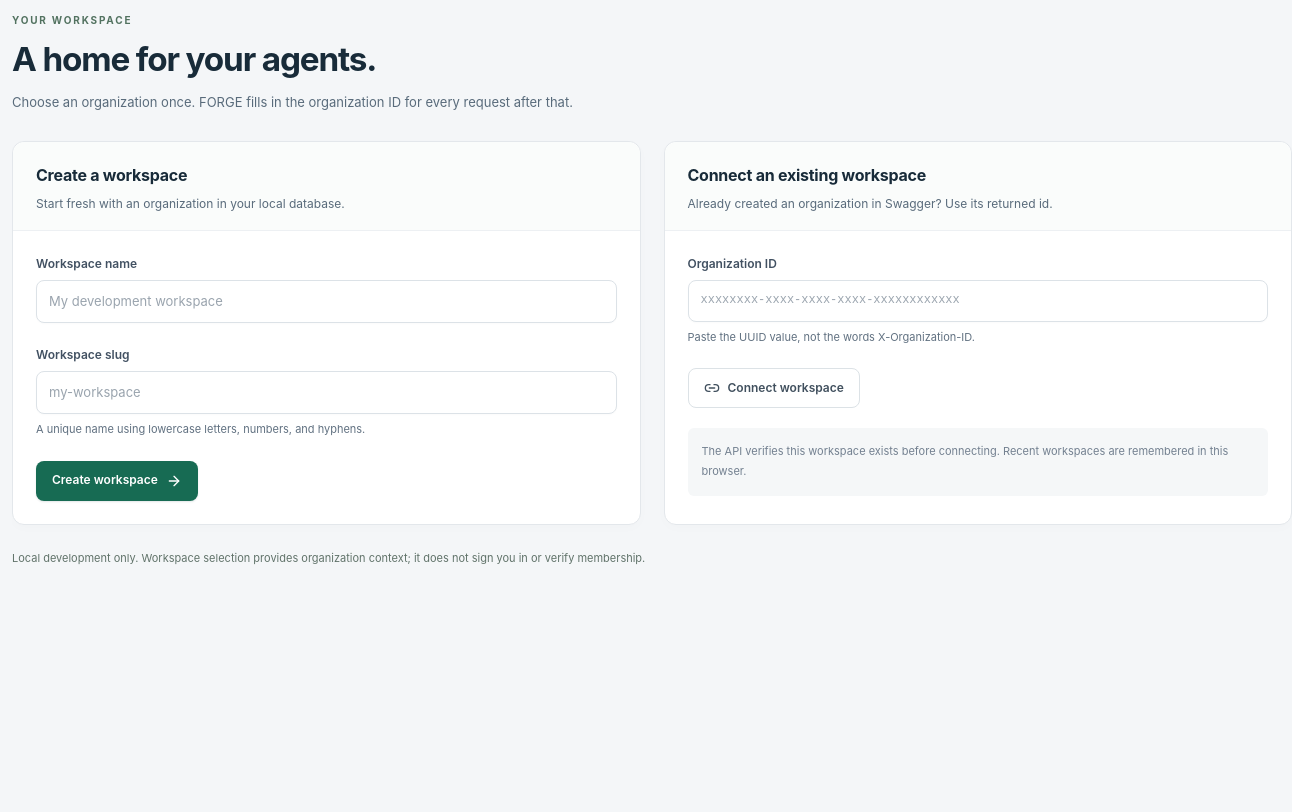
Test case: forms and local context › explains an invalid workspace UUID before sending a request
In the field labelled "Organization ID": point(978, 301) [688,280,1268,322], type "X-Organization-ID"
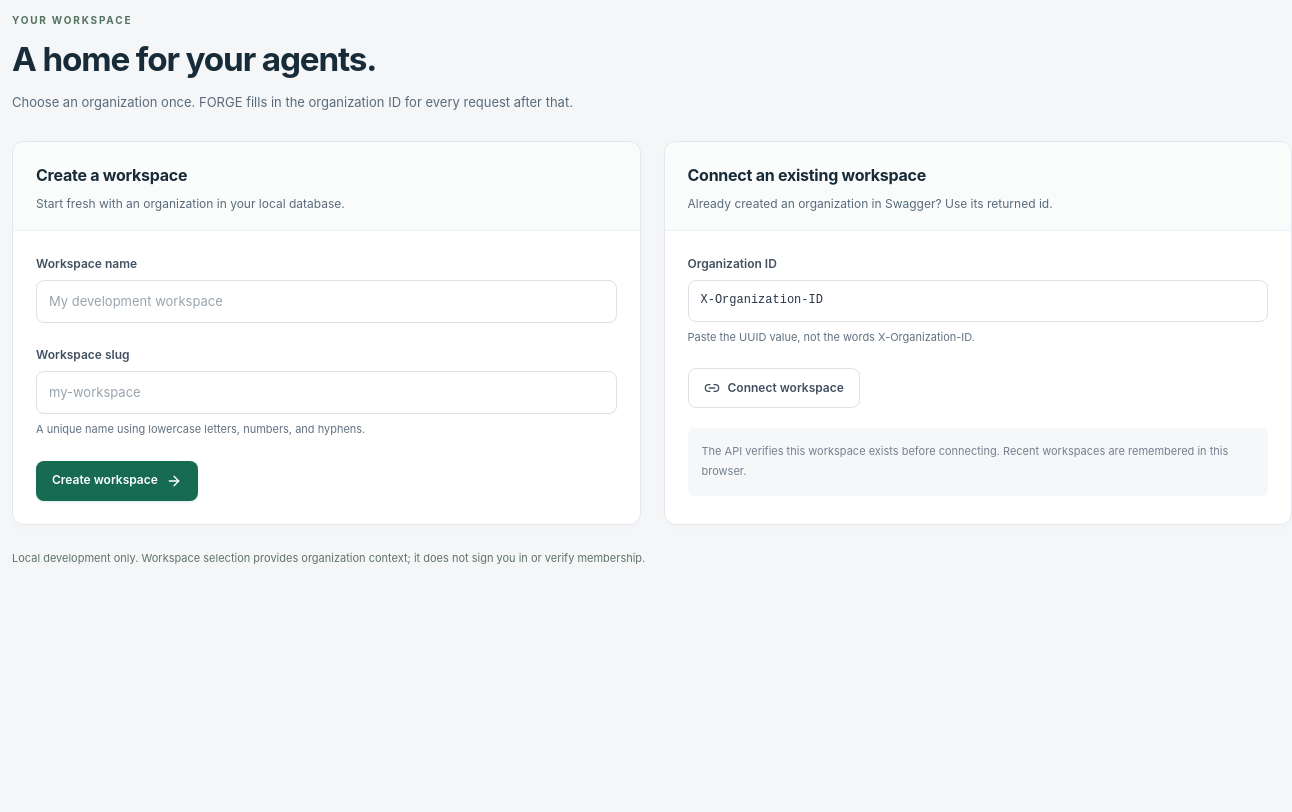
Click the button "Connect workspace": point(774, 388) [688,368,860,408]
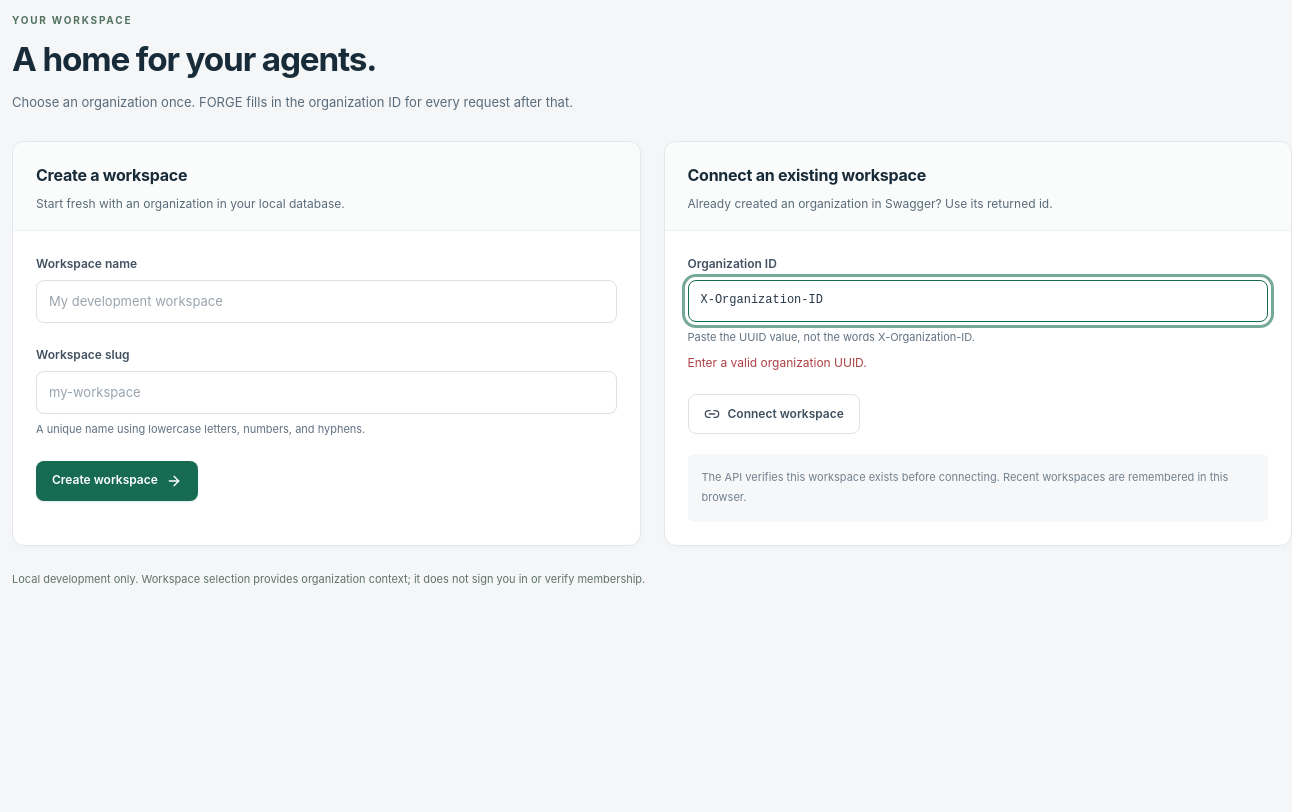
expect the text "Enter a valid organization UUID." is shown: met, box [688,355,867,370]
